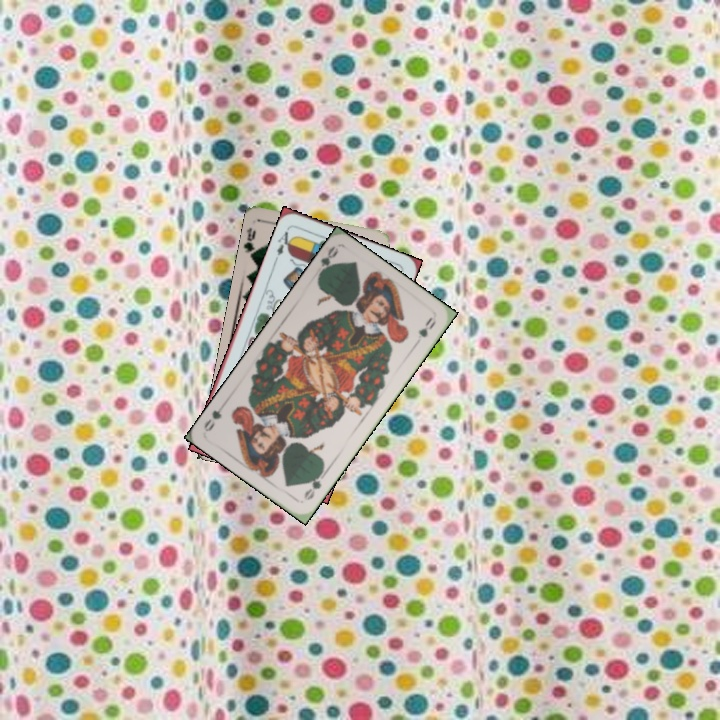EA: (273, 224, 297, 258)
G9: (240, 223, 261, 260)
GO: (314, 243, 341, 281), (300, 468, 329, 503)
